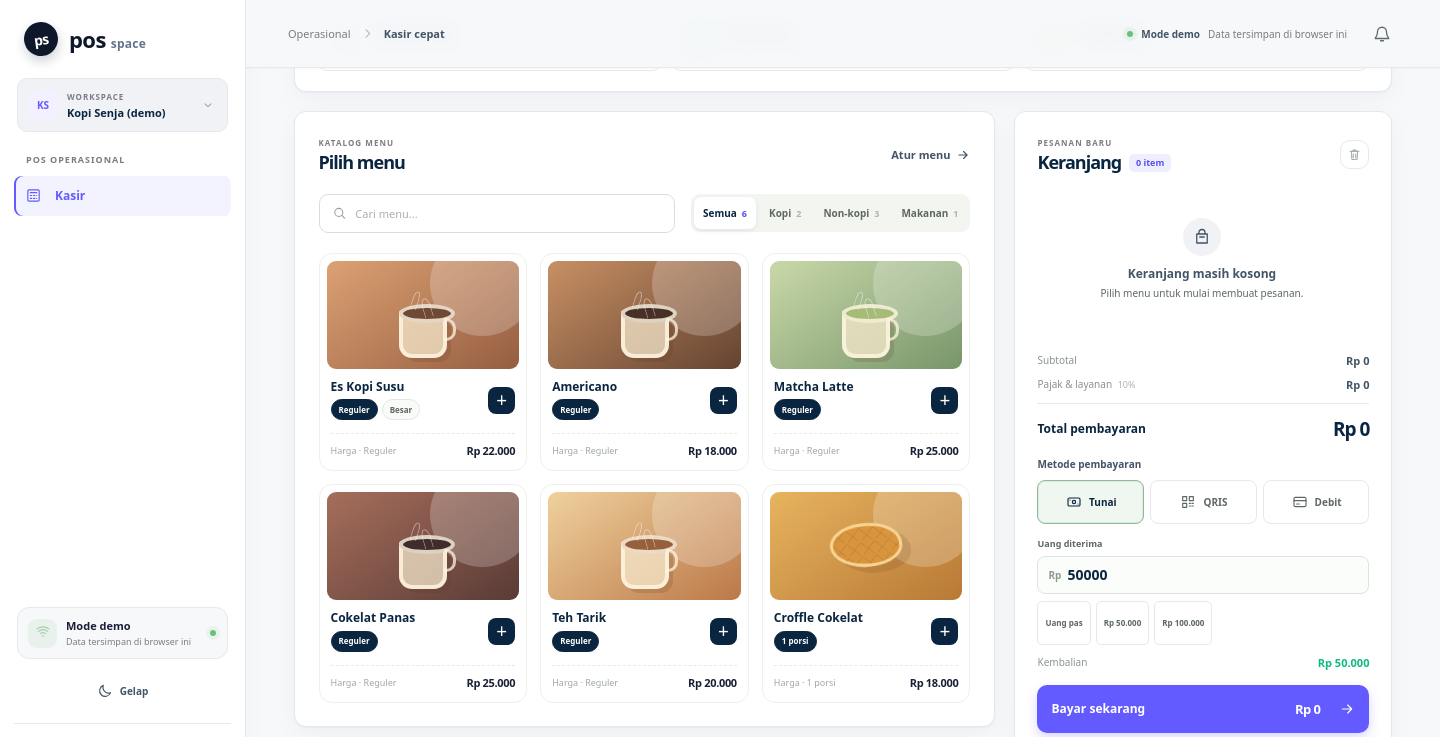
Test: Kasir cepat (alur POS via /demo) › bayar QRIS dengan referensi
(page scrolled)
Click the button "+" next to "Matcha Latte". click: {"x": 946, "y": 401}
box: [932, 387, 959, 414]
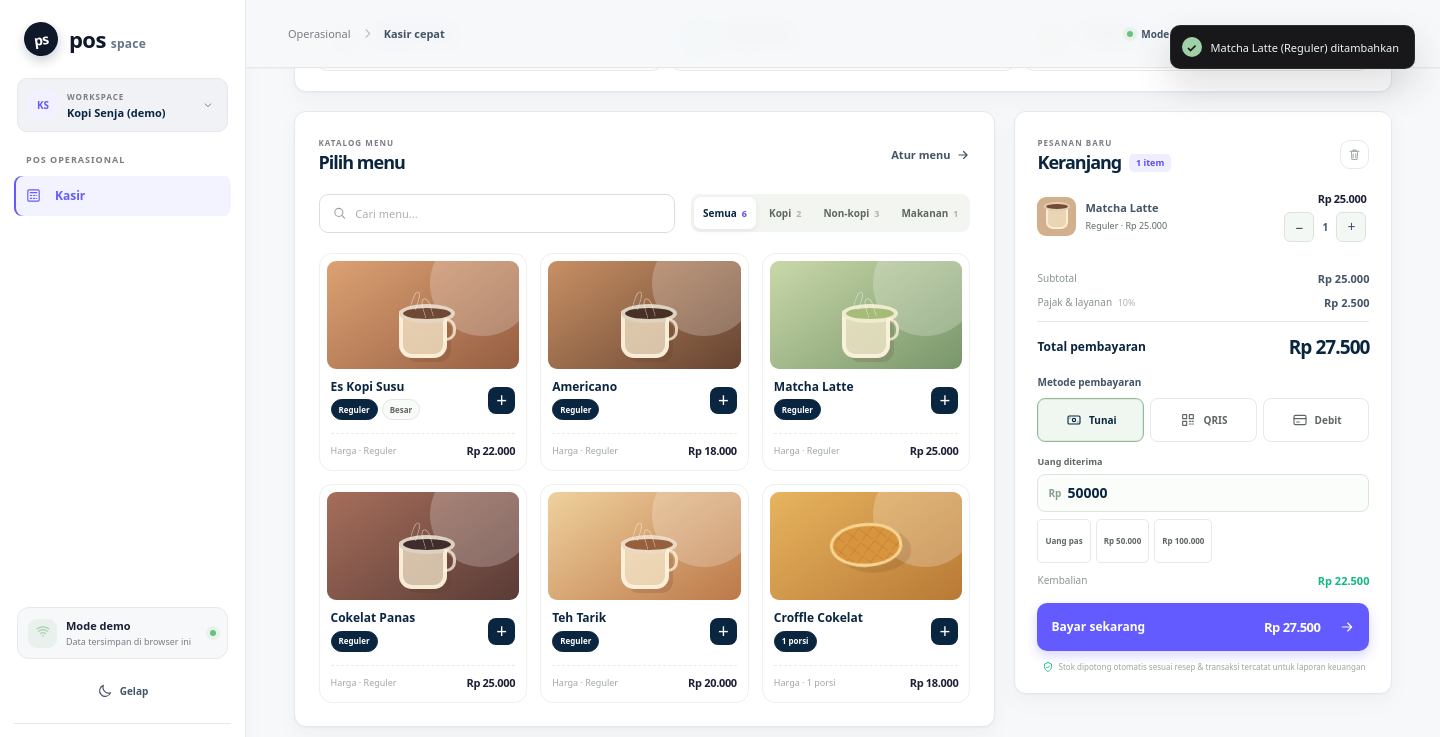
Click the button "QRIS". click: {"x": 1204, "y": 420}
box: [1150, 398, 1257, 442]
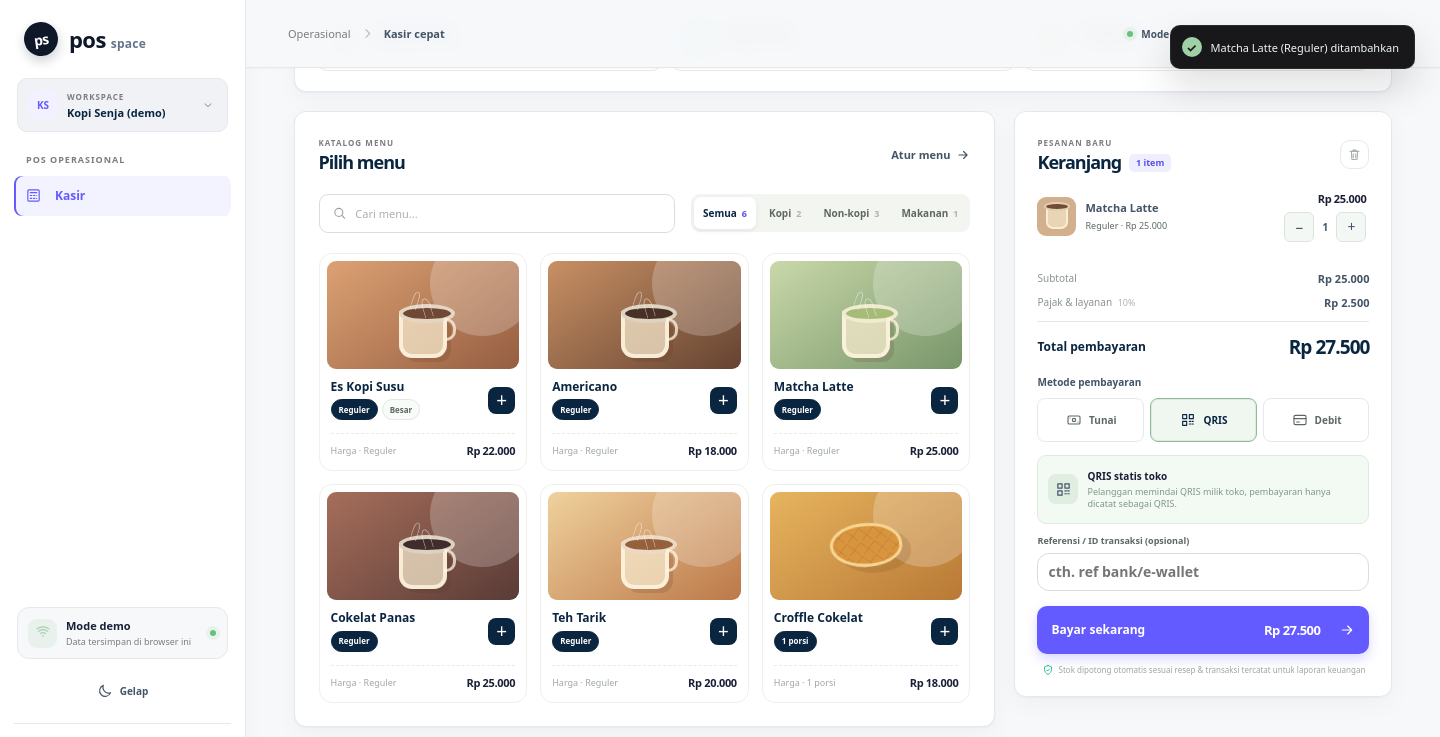
Type "REF-TEST-1" into the field labelled "Referensi / ID transaksi (opsional)". click: {"x": 1204, "y": 572}
box: [1049, 562, 1359, 581]
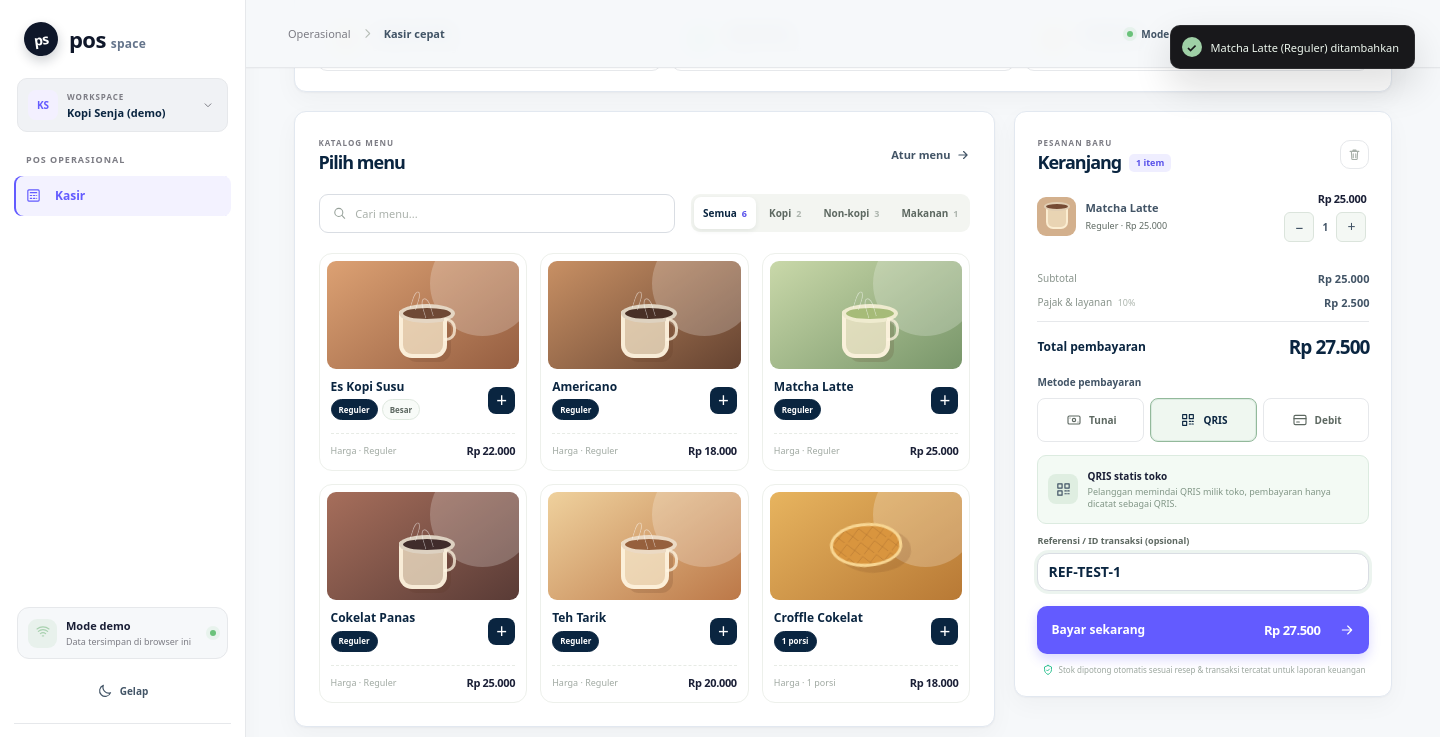
Click the button "Bayar sekarang Rp 27.500". click: {"x": 1098, "y": 630}
box: [1038, 606, 1370, 654]
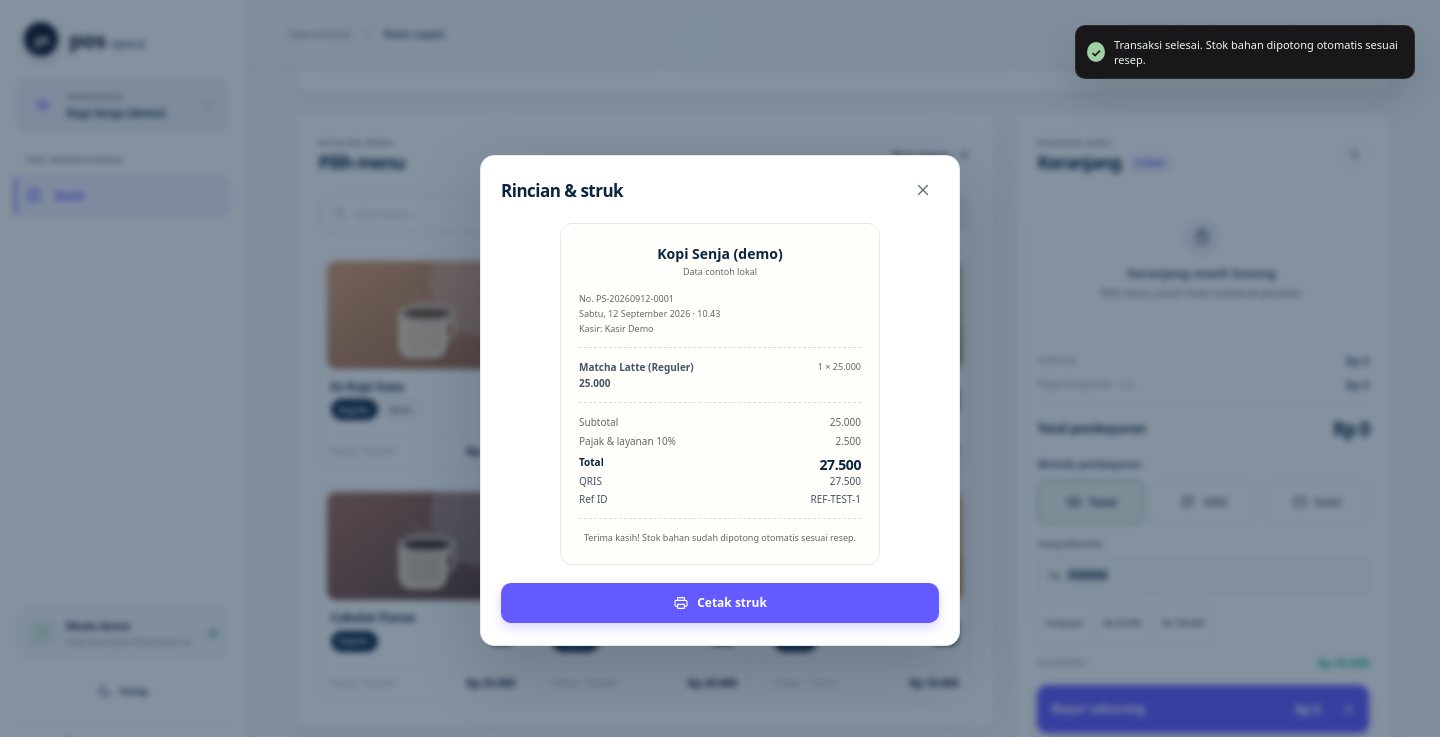
Expected: the text "QRIS" is shown, [579, 474, 602, 488]
Expected: the text "Ref ID" is shown, [579, 492, 608, 506]
Expected: the text "REF-TEST-1" is shown, [810, 492, 861, 506]
